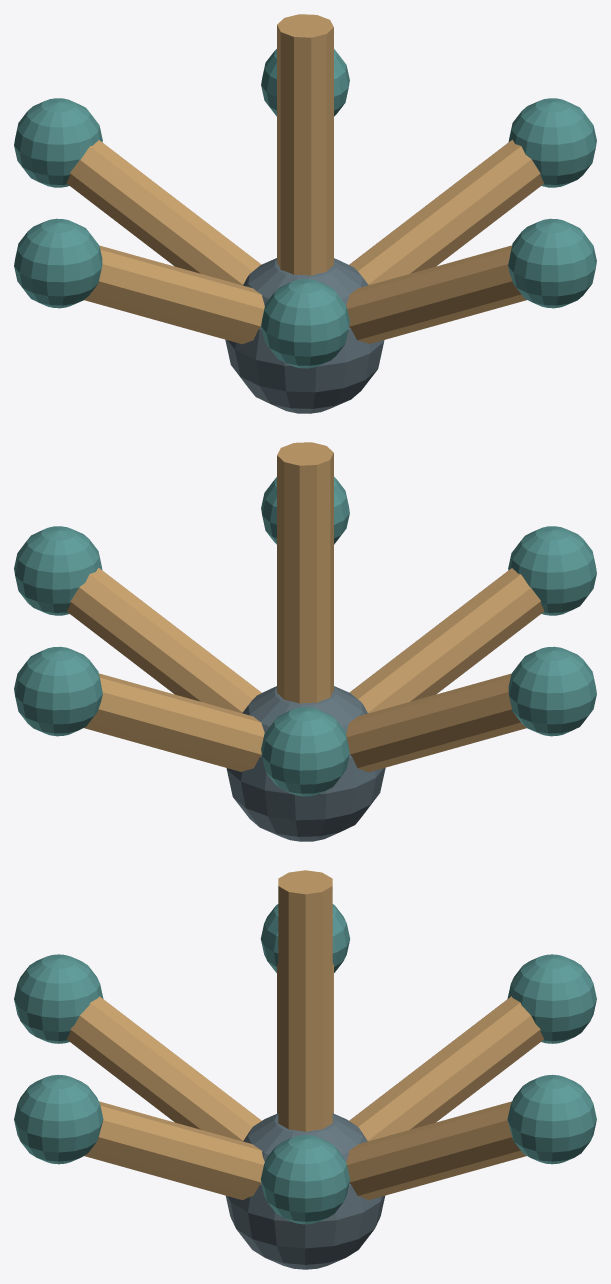
Rendered from GeodesicJunction.glb.
3 renders of one model, top to bottom at view 1: azimuth 30°, elevation 25°; view 2: azimuth 150°, elevation 25°; view 3: azimuth 270°, elevation 25°, orthographic.
Parts seen in each view (by area): view 1: GeodesicJunction; view 2: GeodesicJunction; view 3: GeodesicJunction.
Part boxes in pixels (bbox=[...]): GeodesicJunction: bbox=[14, 14, 596, 413]; GeodesicJunction: bbox=[14, 442, 596, 841]; GeodesicJunction: bbox=[14, 870, 596, 1269].
Bounding box in the file's own units: 1.62 × 1.03 × 1.43.
